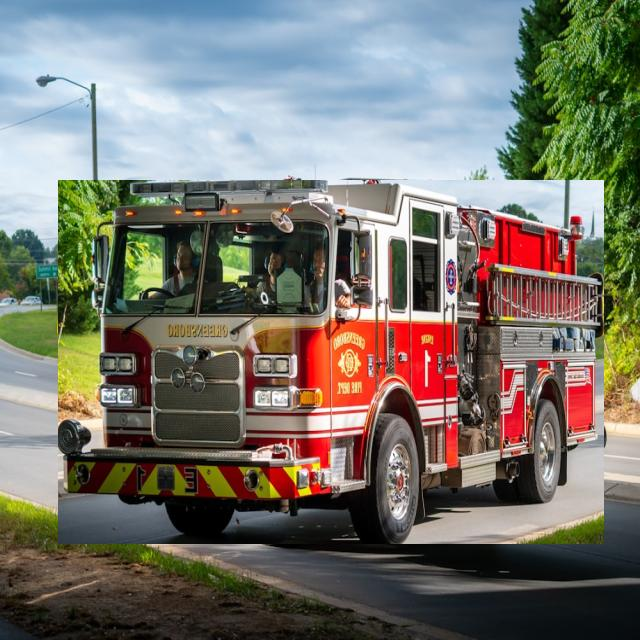emergency: (59, 180, 604, 544)
